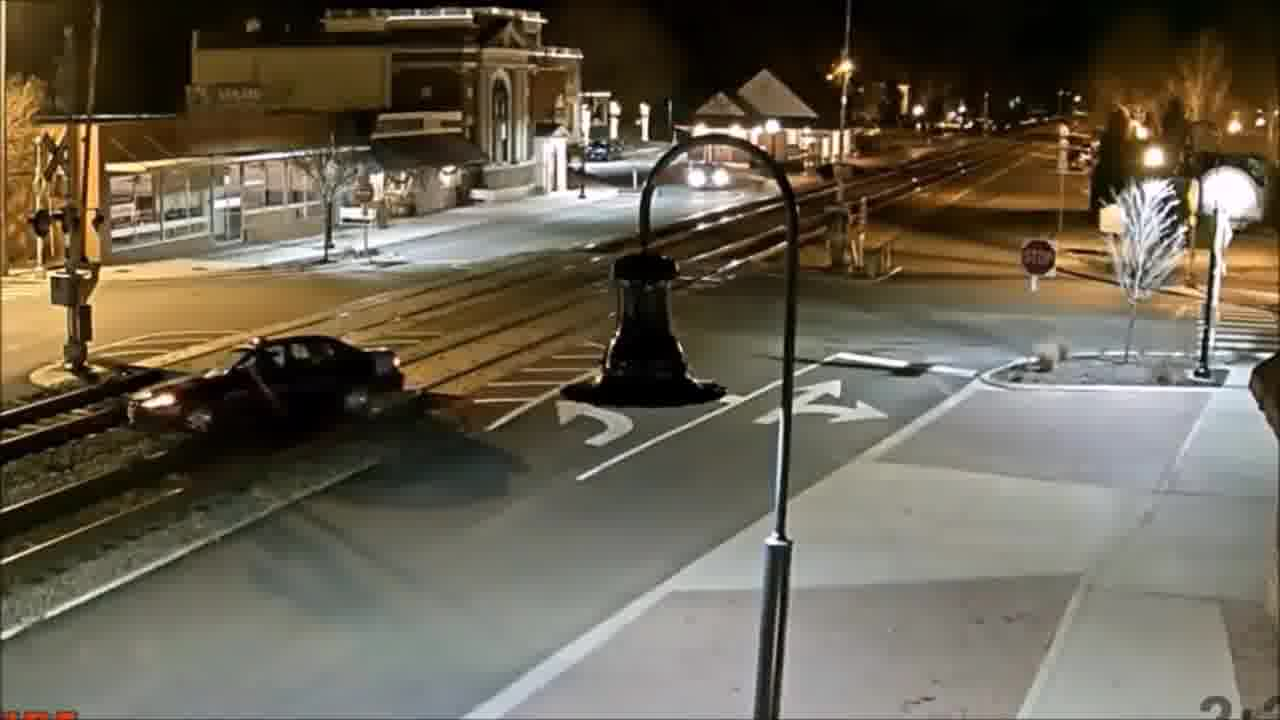crossing railway track: (118, 326, 407, 456)
